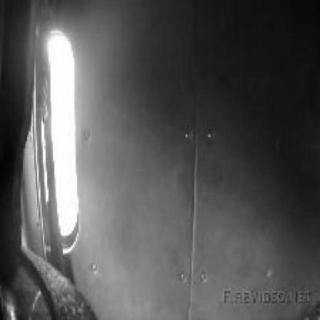other: (52, 33, 80, 239)
